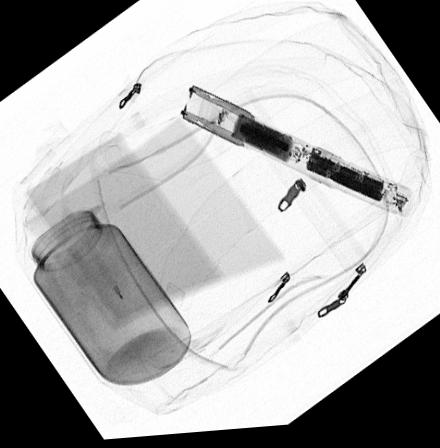Baton: (177, 86, 413, 228)
